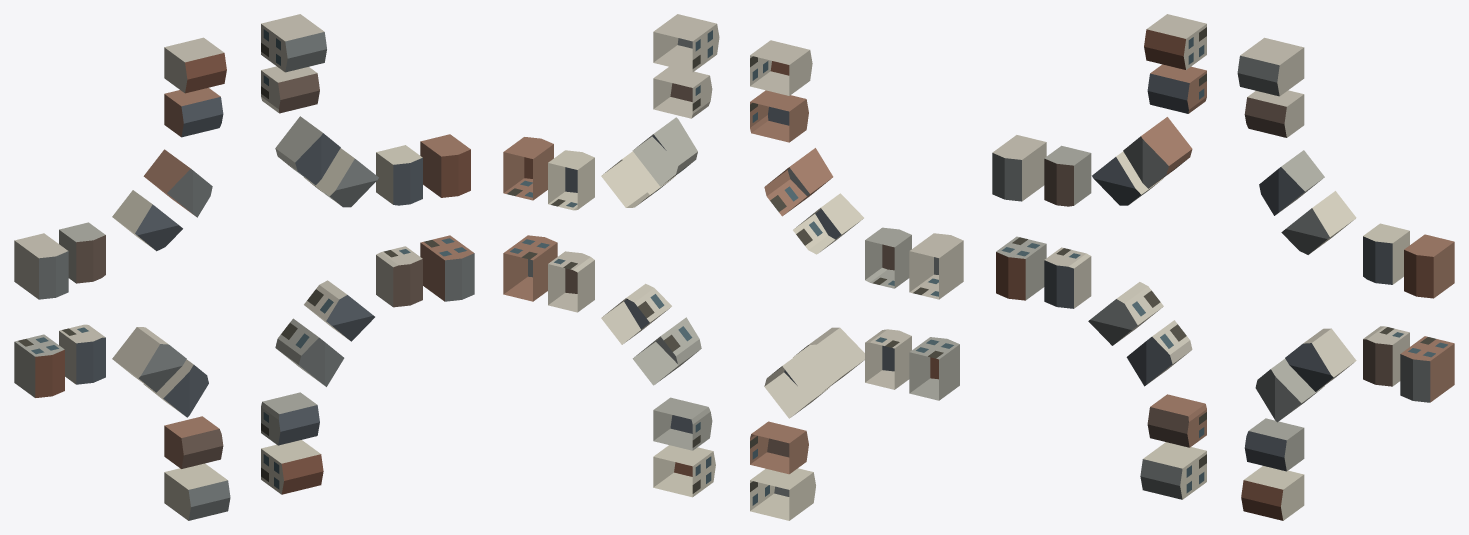
Rendered from street_blocks.obj.
The picture shows the model from 3 angles, left to right: view 1: azimuth 30°, elevation 25°; view 2: azimuth 150°, elevation 25°; view 3: azimuth 330°, elevation 25°; orthographic projection.
Visible parts, largest first — view 1: street_blocks; view 2: street_blocks; view 3: street_blocks.
Boxes of the visible parts, x1=… form: street_blocks: x1=14, y1=14, x2=474, y2=520; street_blocks: x1=503, y1=14, x2=963, y2=520; street_blocks: x1=992, y1=14, x2=1454, y2=520.
Size of the model in its own units: 70.5 by 70.5 by 7.5.
